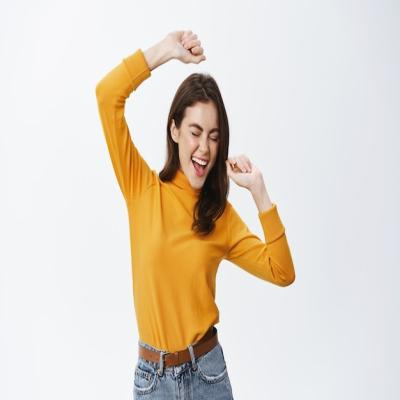happy: (171, 84, 225, 192)
